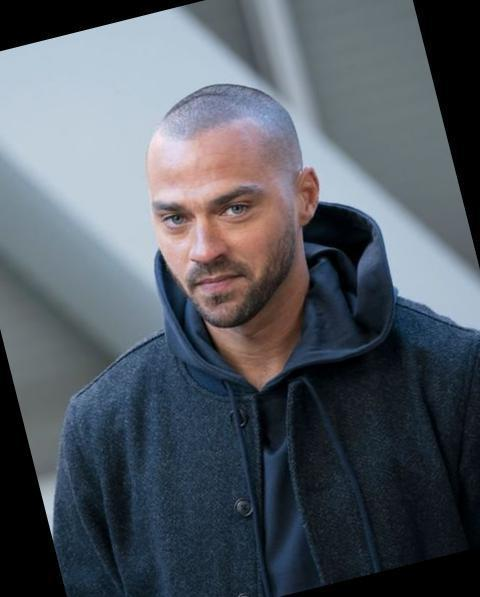Sober: (152, 138, 293, 323)
